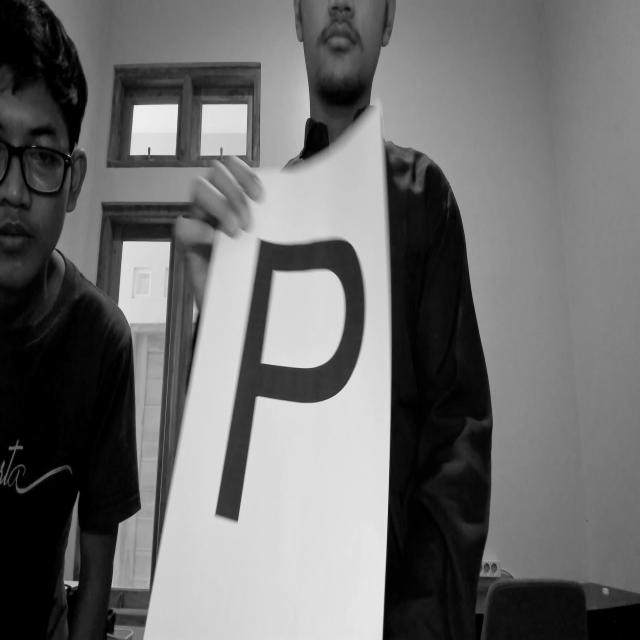p: (210, 213, 374, 560)
